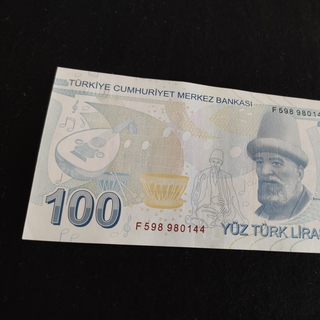100TLBack: (21, 65, 320, 257)
